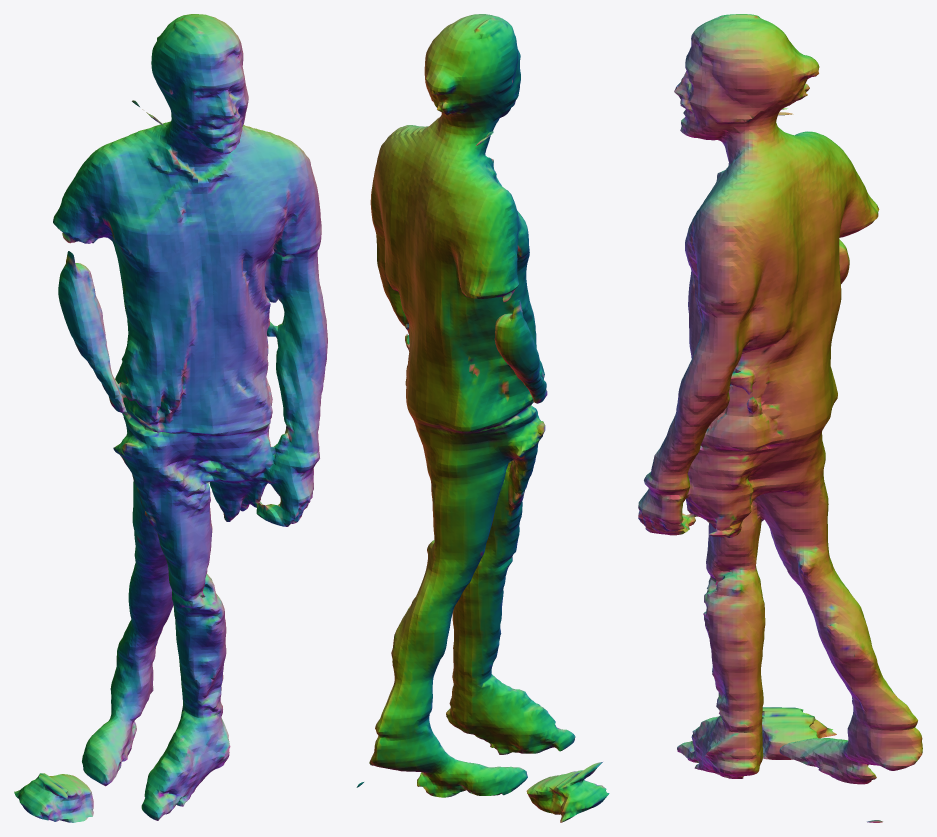
The model's file is result_saka_256.obj.
The picture shows the model from 3 angles, left to right: view 1: azimuth 30°, elevation 25°; view 2: azimuth 150°, elevation 25°; view 3: azimuth 270°, elevation 25°; orthographic projection. The views are drawn at different scales.
Size of the model in its own units: 0.6159 by 1.74 by 0.5674.
